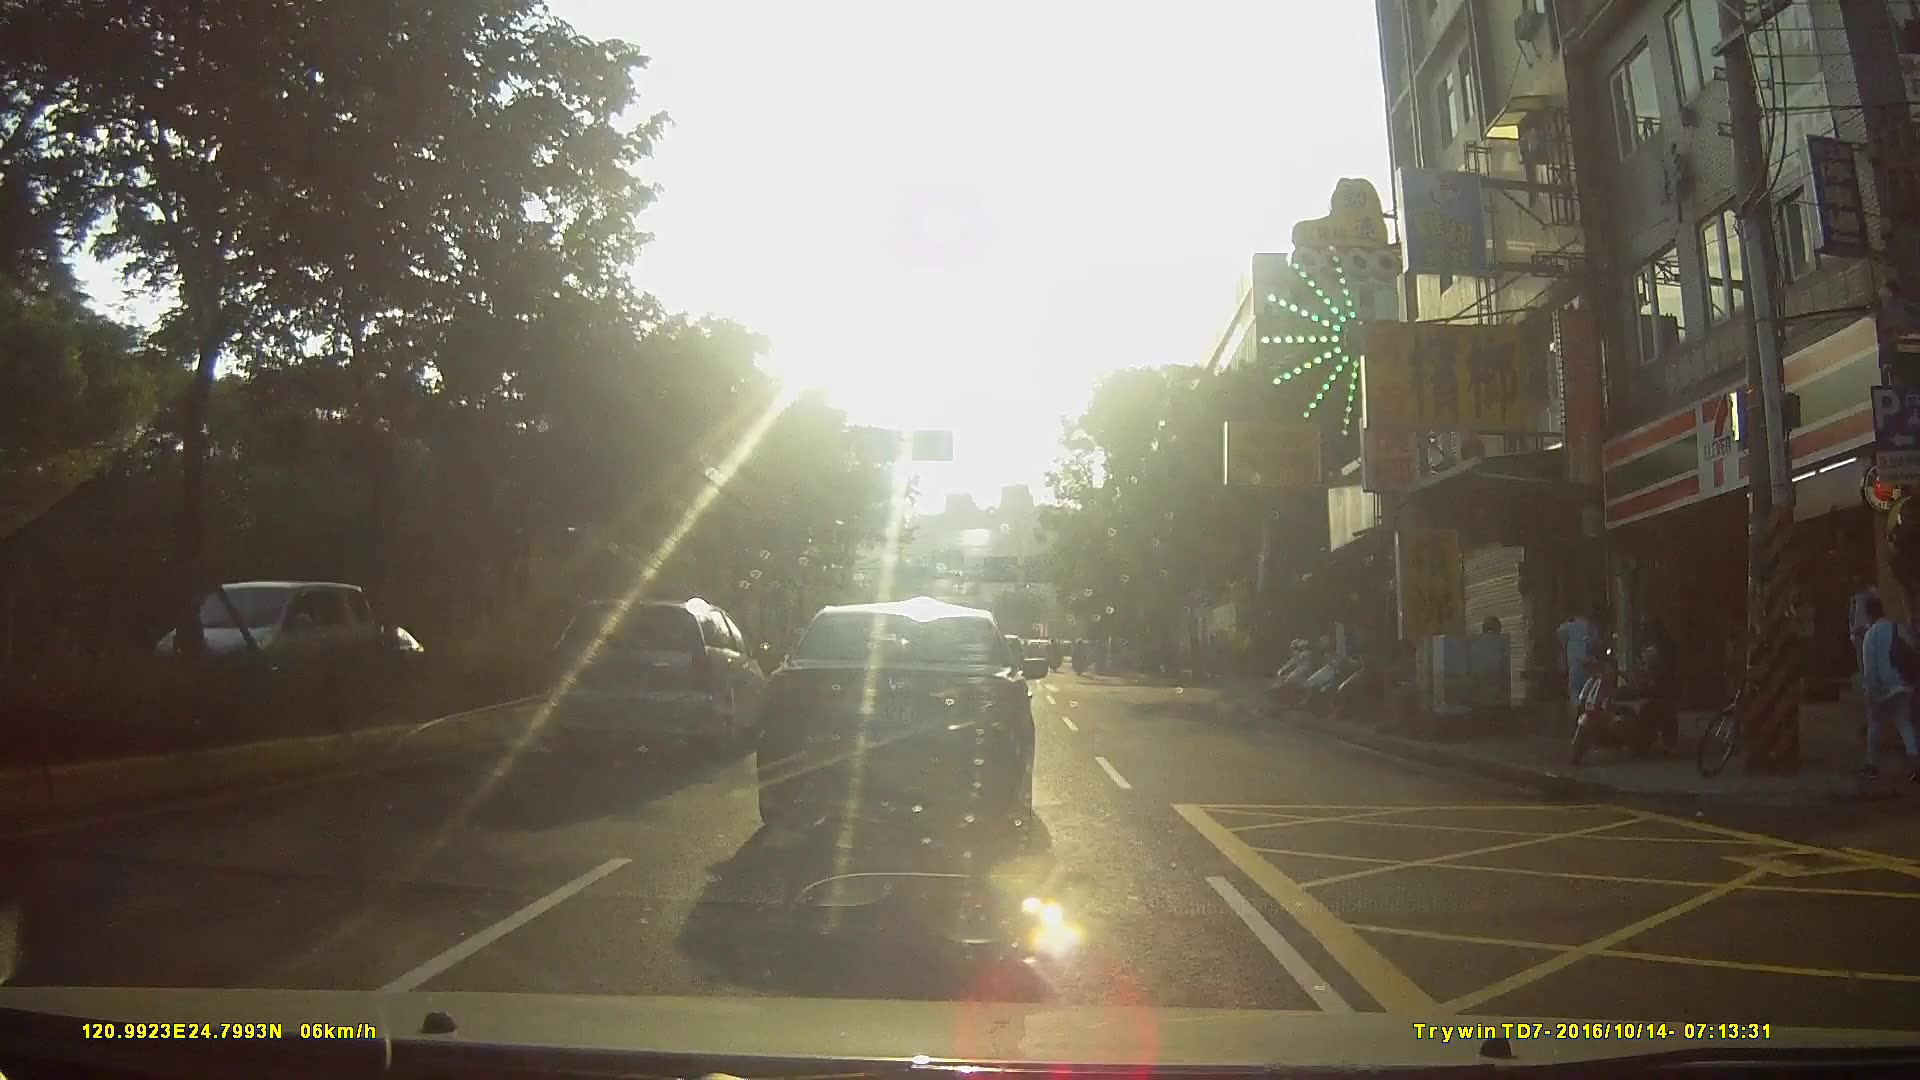pedestrian: (1854, 595, 1920, 780), (1628, 617, 1679, 759), (1550, 600, 1607, 722)
vehicle: (752, 599, 1049, 846), (549, 591, 777, 755), (153, 581, 379, 699)
